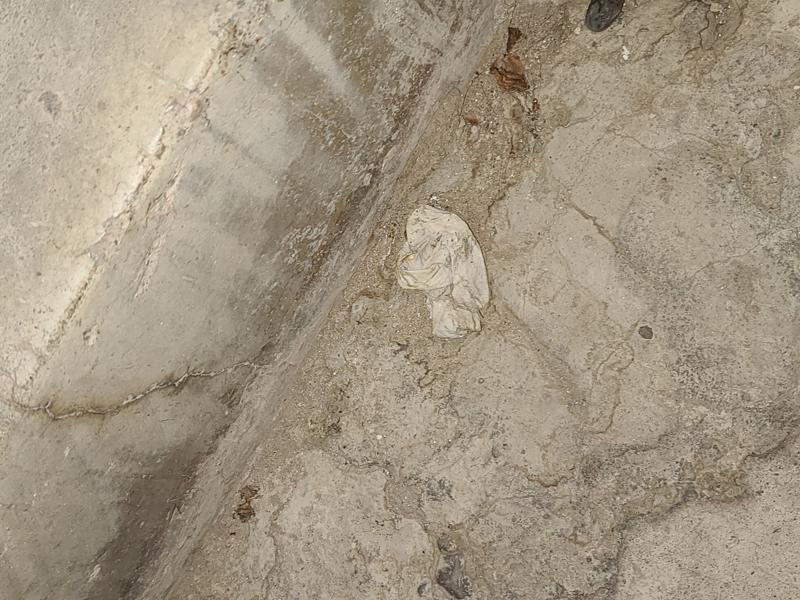papel: (396, 206, 492, 338)
